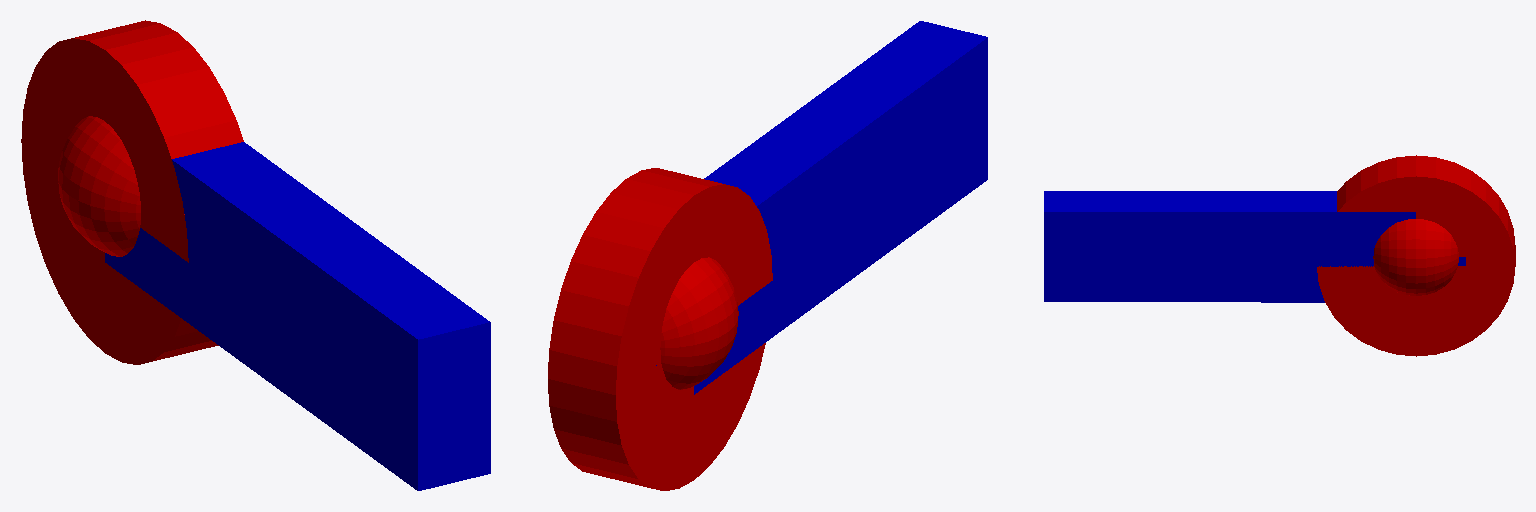
The robot description file, URDF, robot "TwoLinkStruct164097656":
<?xml version="1.0"?>
<robot  name="TwoLinkStruct164097656" >
 <material  name="blue" >
  <color  rgba="0 0 0.8 1.0" />
 </material>
 <material  name="red" >
  <color  rgba="0.8 0 0 1.0" />
 </material>
 <link  name="base_link" >
  <visual >
   <origin  rpy="0 1.5707 0"  xyz="0 0 0" />
   <material  name="red" />
   <geometry >
    <cylinder  length="0.05"  radius="0.1" />
   </geometry>
  </visual>
 </link>
 <joint  type="revolute"  name="joint1" >
  <parent  link="base_link" />
  <child  link="link1" />
  <origin  xyz="0 0 0"  rpy="0 0 0" />
  <axis  xyz="1 0 0" />
 </joint>
 <link  name="link1" >
  <inertial >
   <origin  rpy="0 0 0"  xyz="0 0 0.005" />
   <mass  value="0.027210237979888918" />
   <inertia  ixy="0.0"  iyy="1.133759915828705e-05"  izz="5.8955515623092655e-06"  ixz="0.0"  ixx="5.8955515623092655e-06"  iyz="0.0" />
  </inertial>
  <visual >
   <origin  rpy="0 0 0"  xyz="0 0 0.005" />
   <material  name="blue" />
   <geometry >
    <box  size="0.05 0.1 0.01" />
   </geometry>
  </visual>
 </link>
 <joint  type="fixed"  name="joint-joint-1" >
  <parent  link="link1" />
  <child  link="joint-link-1" />
  <origin  xyz="0 0 0.01"  rpy="1.5707 0 0" />
  <axis  xyz="1 0 0" />
 </joint>
 <link  name="joint-link-1" >
  <inertial >
   <origin  rpy="0 0 0"  xyz="0 0 0" />
   <mass  value="0.001" />
   <inertia  ixy="0"  iyy="0"  izz="0"  ixz="0"  ixx="0"  iyz="0" />
  </inertial>
  <visual >
   <origin  rpy="0 0 0"  xyz="0 0 0" />
   <material  name="red" />
   <geometry >
    <sphere  radius="0.05" />
   </geometry>
  </visual>
 </link>
 <joint  type="revolute"  name="joint2" >
  <parent  link="link1" />
  <child  link="link2" />
  <origin  xyz="0 0 0.01"  rpy="1.5707 0 0" />
  <axis  xyz="1 0 0" />
 </joint>
 <link  name="link2" >
  <inertial >
   <origin  rpy="0 0 0"  xyz="0 0 0.18705817712156764" />
   <mass  value="0.9649173440012935" />
   <inertia  ixy="0.0"  iyy="1.133759915828705e-05"  izz="0.00032303778324468897"  ixz="0.0"  ixx="0.00032303778324468897"  iyz="0.0" />
  </inertial>
  <visual >
   <origin  rpy="0 0 0"  xyz="0 0 0.18705817712156764" />
   <material  name="blue" />
   <geometry >
    <box  size="0.05 0.1 0.3741163542431353" />
   </geometry>
  </visual>
 </link>
 <joint  type="fixed"  name="eef_joint" >
  <parent  link="link2" />
  <child  link="eef" />
  <origin  xyz="0 0 0.3741163542431353"  rpy="0 0 0" />
 </joint>
 <link  name="eef" >
  <inertial >
   <origin  rpy="0 0 0"  xyz="0 0 0" />
   <mass  value="1" />
   <inertia  ixy="0"  iyy="0"  izz="0"  ixz="0"  ixx="0"  iyz="0" />
  </inertial>
 </link>
 <transmission  name="motor1" >
  <type  xmltext="SimpleTransmission" >
   SimpleTransmission
  </type>
  <actuator  name="motor1" >
   <mechanicalreduction  xmltext="1" >
    1
   </mechanicalreduction>
  </actuator>
  <joint  name="joint1" />
 </transmission>
 <transmission  name="motor2" >
  <type  xmltext="SimpleTransmission" >
   SimpleTransmission
  </type>
  <actuator  name="motor2" >
   <mechanicalreduction  xmltext="1" >
    1
   </mechanicalreduction>
  </actuator>
  <joint  name="joint2" />
 </transmission>
</robot>

<!-- {'carti': array([-0.1 ,  0.14,  0.85]), 'cartd': array([-0.1 ,  0.32,  1.29]), 'tau_mu': 0.7983836825096415, 'b0': 0.0, 'Km': 2.023770216702256, 'k_velocity': 100.0, 'tau_max_m': 5.0, 'omega_max_m': 2317.887830893945, 'gear_ratio': 6.661481079292789, 'Kp': 78.76747549295511, 'Kd': 100.0, 'm_m': 0.001, 'l1': 0.01, 'l2': 0.3741163542431353, 'k1': 30900.0, 'k2': 234985810.6570404, 'k3': 379000000.0}-->

--- What the picture shows (computed from the rendered views, not written in the file) ---
3 views of the same robot in one strip: view 1: azimuth 30°, elevation 25°; view 2: azimuth 150°, elevation 25°; view 3: azimuth 270°, elevation 25° (orthographic).
Model TwoLinkStruct164097656 with 5 links and 4 joints (2 revolute, 2 fixed), rooted at base_link, posed every joint at zero.
Visible links, largest first — view 1: link2, base_link, joint-link-1; view 2: link2, base_link, joint-link-1; view 3: link2, base_link, joint-link-1.
Boxes of the visible links, bbox=[...] form: link2: bbox=[105, 142, 490, 490]; base_link: bbox=[21, 20, 243, 364]; joint-link-1: bbox=[58, 116, 140, 256]; link2: bbox=[694, 21, 987, 394]; base_link: bbox=[548, 168, 772, 490]; joint-link-1: bbox=[660, 257, 738, 389]; link2: bbox=[1044, 191, 1415, 302]; base_link: bbox=[1317, 155, 1515, 356]; joint-link-1: bbox=[1373, 219, 1458, 295].
Size in the robot's own frame: 0.1 by 0.4741 by 0.2 metres.
Geometry: primitives only (box / cylinder / sphere), no mesh files.
